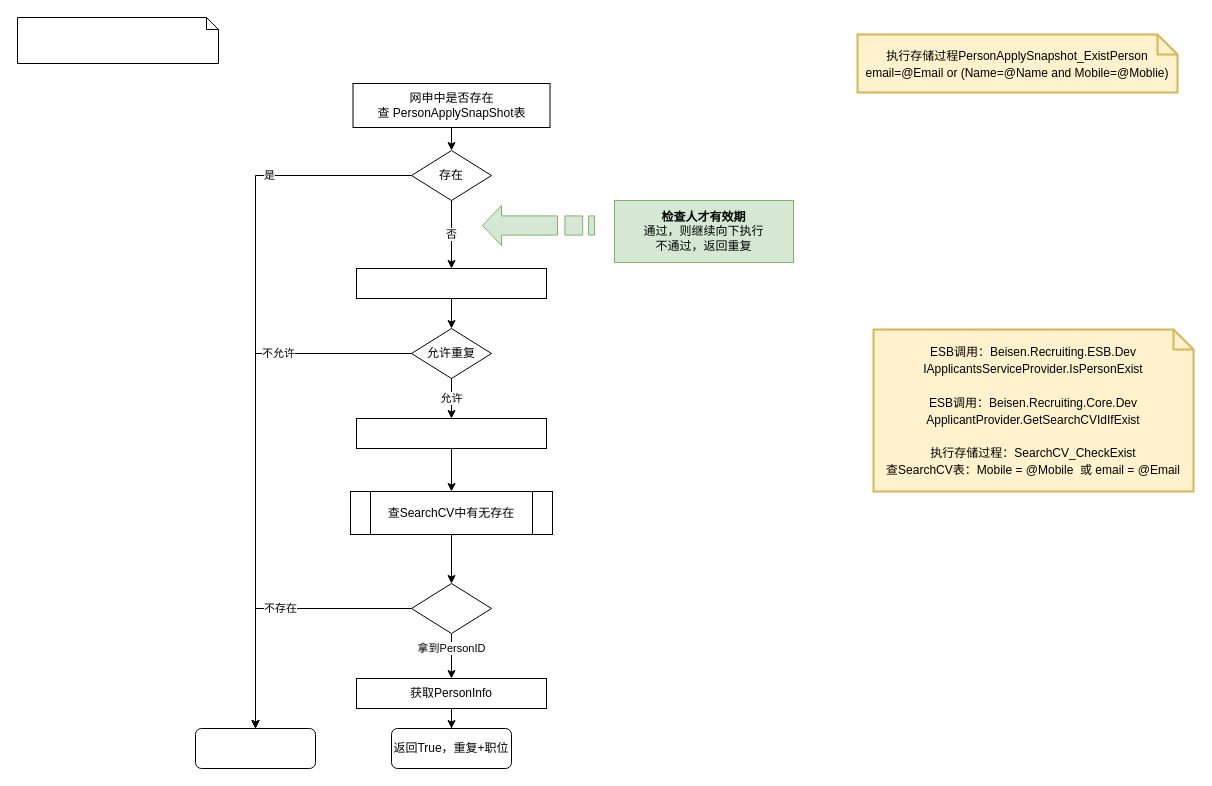
This 1212x786 diagram has some shape labels left out. The shapes that lost their labels are listed below. From the top down, each one's centre as x and y in pixels, then its label:
(117,40): InternalRecommend.Dev ResumeController.ExistPersonApply
(451,283): 获取 内推设置 InternalSetting
(451,433): 取 职位广告 JobAd、JobInfo
(451,608): personExist
(255,748): 返回False，不重复
